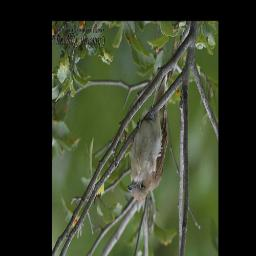Cuckoo: (127, 73, 169, 203)
